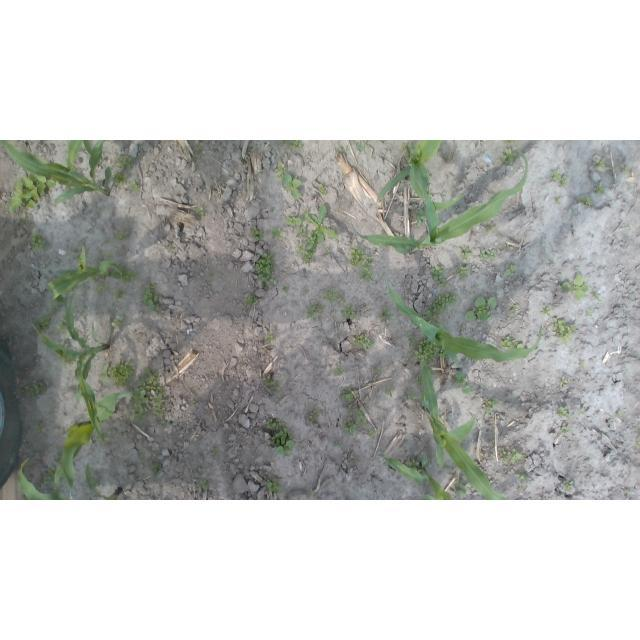Maize: (354, 151, 529, 254), (384, 277, 542, 364), (416, 358, 508, 500), (32, 295, 108, 439), (55, 389, 141, 489), (0, 141, 110, 206), (17, 456, 123, 500), (46, 245, 124, 303), (379, 140, 442, 202), (378, 453, 454, 500)
Weeds: (9, 173, 55, 212), (303, 203, 340, 250), (131, 366, 165, 416), (408, 334, 450, 367), (421, 293, 460, 328), (266, 419, 294, 455), (464, 297, 496, 324), (108, 359, 136, 385), (552, 317, 577, 346), (257, 252, 276, 289), (562, 274, 589, 300), (280, 172, 303, 199), (112, 263, 137, 284), (348, 247, 372, 267), (143, 282, 160, 310), (454, 370, 473, 395), (347, 407, 367, 430), (430, 264, 448, 288), (401, 142, 416, 166), (500, 335, 524, 350), (307, 300, 325, 320), (353, 334, 374, 351), (324, 288, 345, 305), (116, 153, 135, 171), (25, 379, 44, 397), (295, 244, 313, 263), (295, 225, 315, 242), (32, 231, 47, 253), (550, 168, 568, 186), (408, 455, 424, 475), (262, 479, 283, 494), (43, 465, 57, 487), (341, 386, 359, 403), (452, 479, 467, 499), (508, 448, 525, 465), (500, 149, 517, 166), (263, 375, 282, 390), (56, 337, 75, 351), (484, 398, 500, 414), (112, 172, 129, 187), (34, 316, 49, 333), (381, 307, 396, 324), (340, 305, 357, 320), (360, 268, 375, 285), (343, 420, 358, 436), (286, 212, 303, 226), (56, 317, 68, 335), (250, 226, 265, 240), (576, 195, 593, 207), (59, 354, 76, 366), (417, 208, 428, 225), (112, 315, 125, 329), (151, 462, 163, 477), (479, 250, 495, 261), (98, 364, 108, 381), (594, 157, 607, 170), (459, 247, 473, 259), (271, 225, 283, 239), (505, 264, 517, 277), (558, 406, 570, 419), (562, 479, 574, 491), (593, 182, 605, 194), (283, 140, 301, 148), (459, 265, 470, 278), (243, 295, 257, 305), (540, 305, 552, 316), (117, 231, 130, 241), (34, 419, 42, 435), (515, 473, 529, 482), (407, 389, 418, 400), (509, 304, 520, 315), (265, 332, 276, 343), (559, 376, 569, 388), (355, 141, 365, 152), (194, 207, 205, 217), (333, 365, 343, 376), (310, 410, 320, 421), (199, 479, 209, 490), (499, 448, 508, 460), (592, 289, 601, 301), (47, 306, 58, 315), (559, 423, 569, 432), (195, 143, 201, 158), (129, 180, 139, 189), (620, 163, 628, 174), (319, 185, 327, 196), (277, 162, 284, 174), (416, 376, 425, 385), (386, 387, 394, 397), (487, 226, 496, 234), (585, 309, 595, 316), (97, 286, 105, 294), (104, 252, 112, 260), (139, 458, 148, 465), (555, 196, 562, 204), (208, 273, 216, 280), (579, 360, 585, 369), (115, 291, 121, 300), (325, 248, 332, 255), (502, 140, 514, 144), (368, 431, 376, 437), (283, 284, 289, 292), (616, 411, 622, 418), (35, 480, 41, 487), (626, 489, 633, 495), (211, 447, 217, 454), (82, 335, 89, 341), (161, 419, 167, 425), (441, 191, 447, 197), (348, 459, 354, 465), (580, 408, 585, 415), (76, 254, 81, 261), (168, 416, 172, 421), (191, 400, 195, 405), (276, 395, 281, 398)
